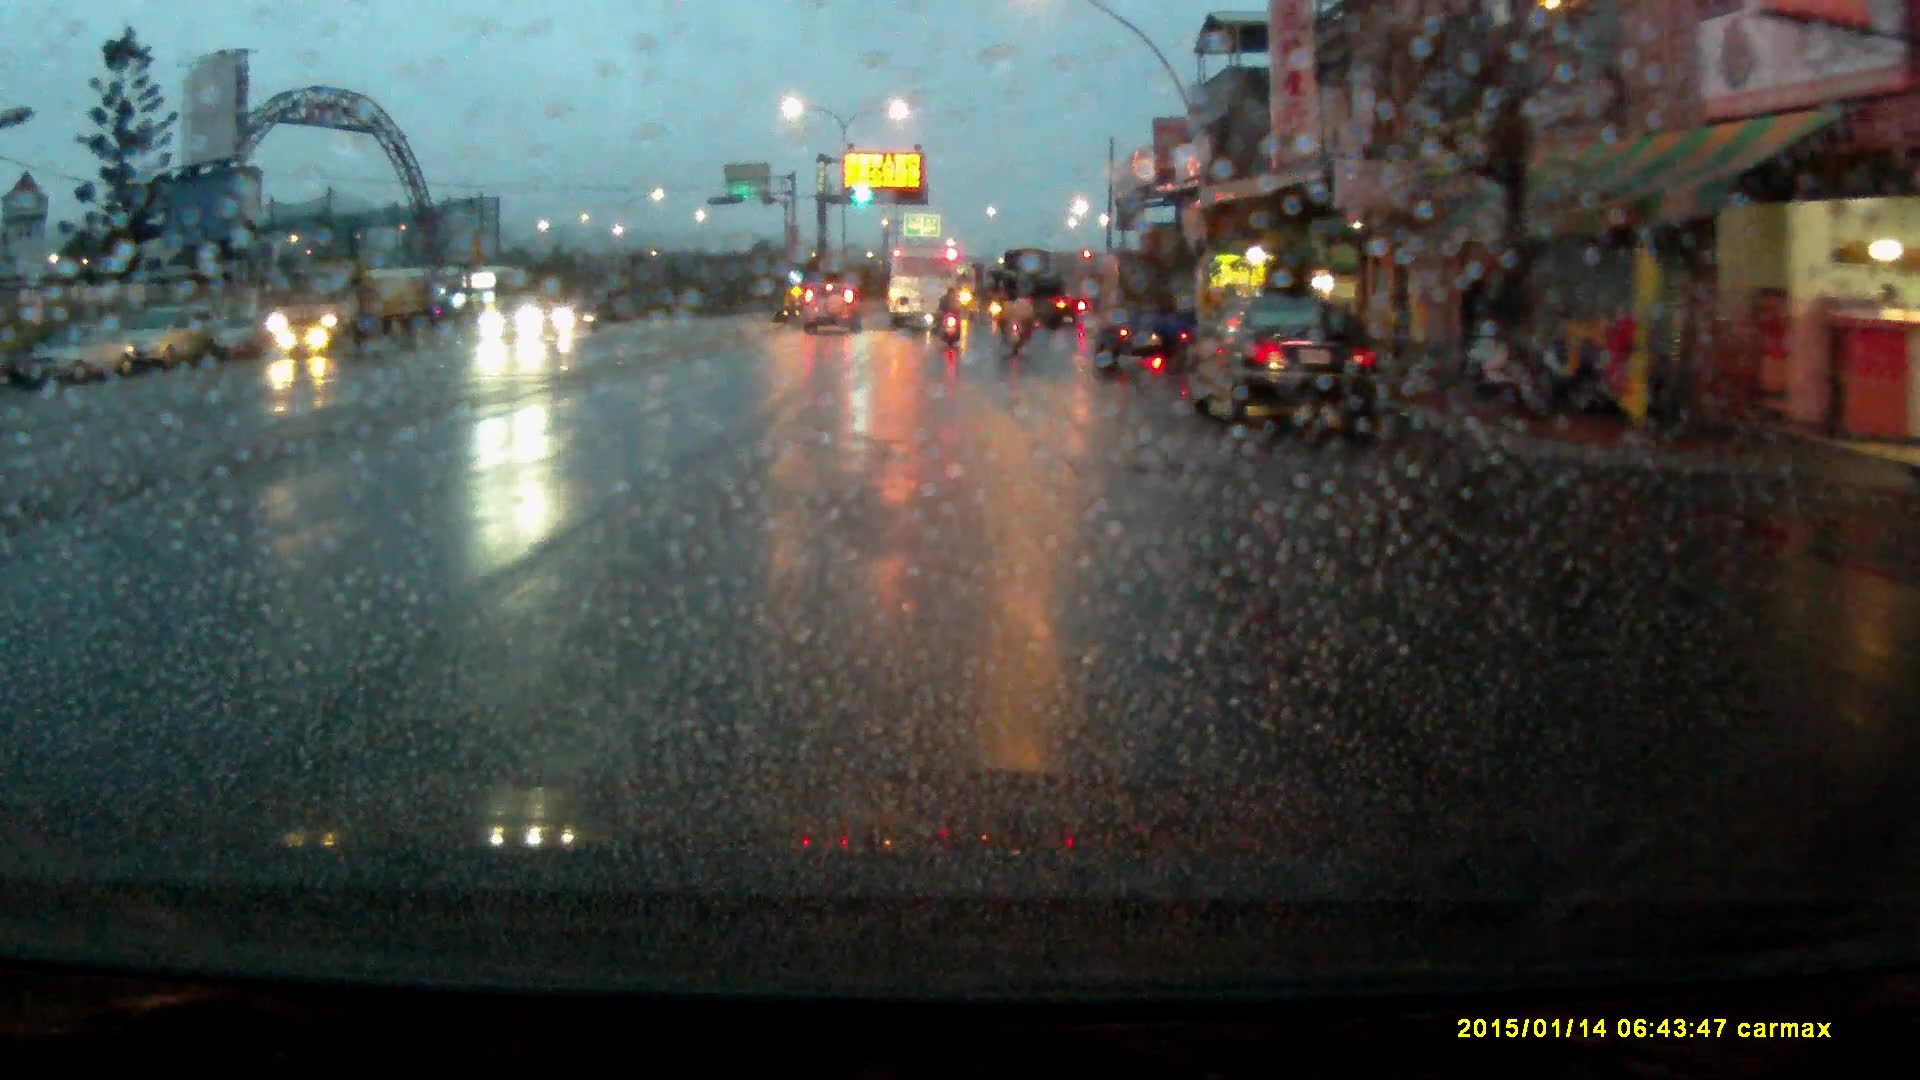rider: (994, 276, 1030, 359), (940, 282, 966, 349)
vehicle: (1186, 301, 1392, 432), (262, 260, 436, 357), (1088, 254, 1201, 369), (114, 305, 212, 372), (888, 248, 956, 336), (45, 323, 137, 388), (1002, 249, 1071, 335), (801, 277, 864, 337), (480, 301, 559, 344), (558, 300, 604, 333)
